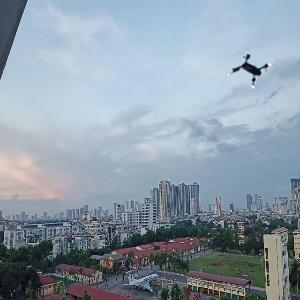drone: (224, 47, 280, 103)
